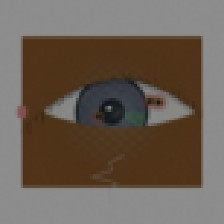foreign_body_visible: (136, 90, 164, 112)
